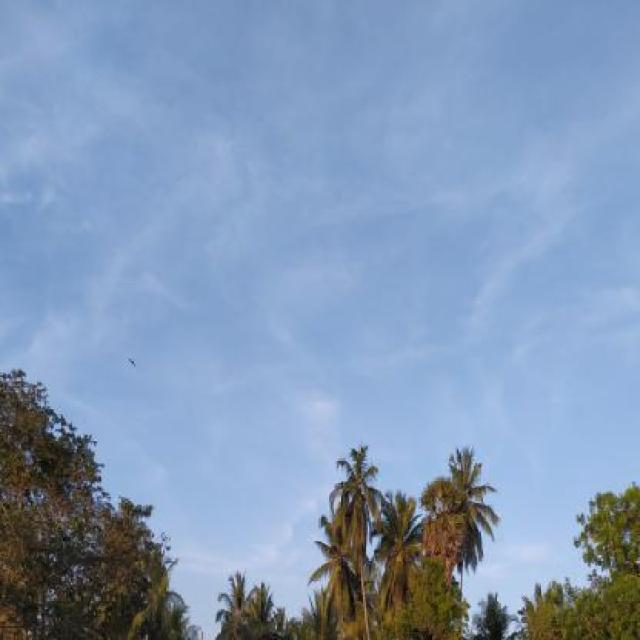bird: (126, 355, 139, 371)
